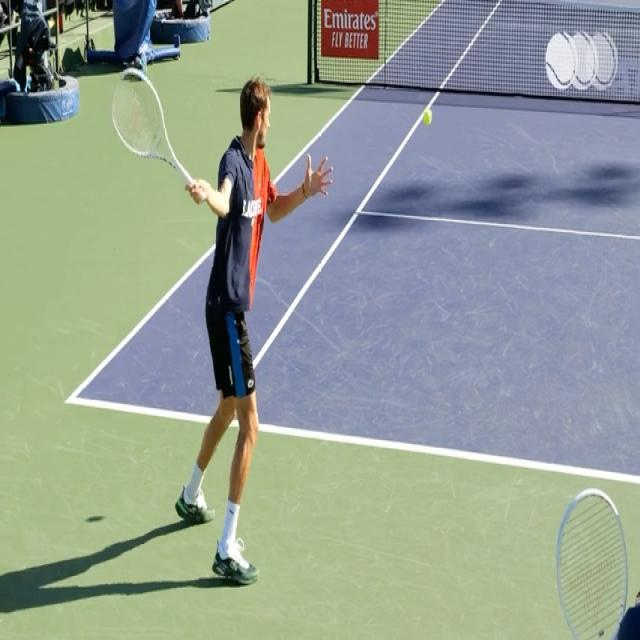forehand-ready: (112, 9, 334, 574)
